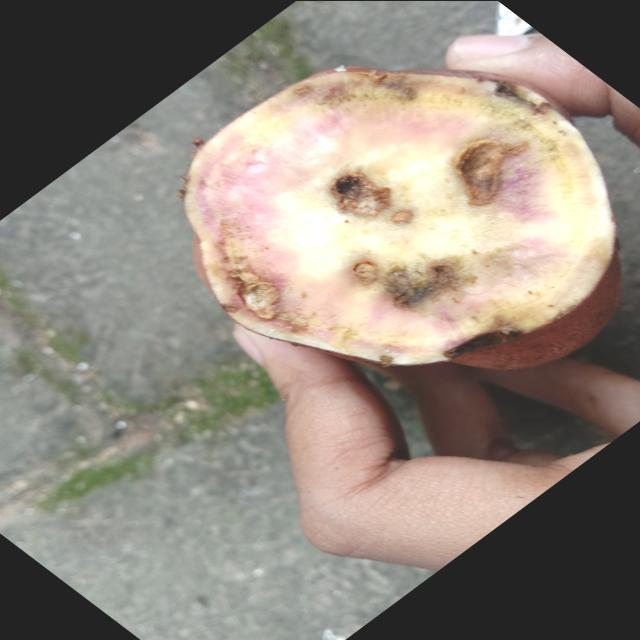Sick Sweet Potato_Tuber Rot: (182, 66, 620, 369)
